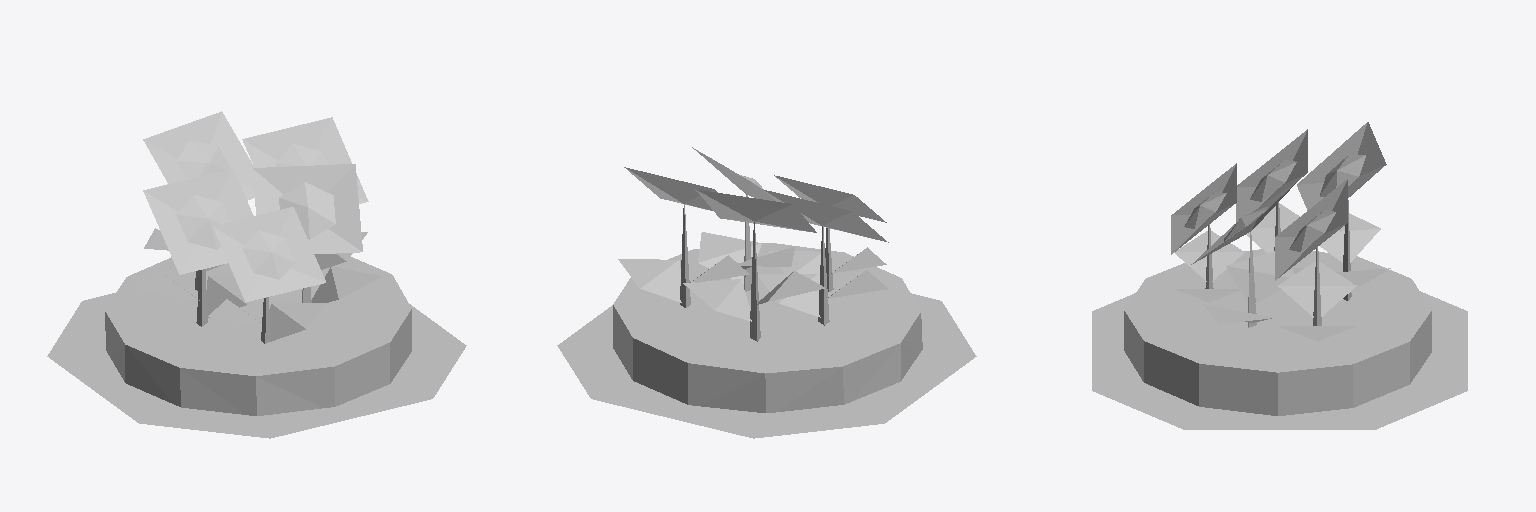
File: Flower2.obj
3 renders of one model, left to right at view 1: azimuth 30°, elevation 25°; view 2: azimuth 150°, elevation 25°; view 3: azimuth 270°, elevation 25°, orthographic.
Visible parts, largest first — view 1: polygon2.024, polygon3.004, polygon0.045, polygon1.045; view 2: polygon2.024, polygon0.045, polygon1.045, polygon3.004; view 3: polygon2.024, polygon0.045, polygon3.004, polygon1.045.
Part boxes in pixels (left/top/right/bottom): polygon2.024: left=105, top=256, right=411, bottom=415; polygon3.004: left=143, top=111, right=368, bottom=302; polygon0.045: left=47, top=293, right=466, bottom=438; polygon1.045: left=137, top=228, right=381, bottom=343; polygon2.024: left=613, top=243, right=922, bottom=412; polygon0.045: left=557, top=293, right=976, bottom=438; polygon1.045: left=618, top=194, right=887, bottom=341; polygon3.004: left=624, top=147, right=888, bottom=242; polygon2.024: left=1124, top=249, right=1431, bottom=415; polygon0.045: left=1092, top=291, right=1467, bottom=429; polygon3.004: left=1171, top=122, right=1386, bottom=280; polygon1.045: left=1174, top=200, right=1390, bottom=341.
Size of the model in its own units: 7.68 by 4.55 by 7.69.